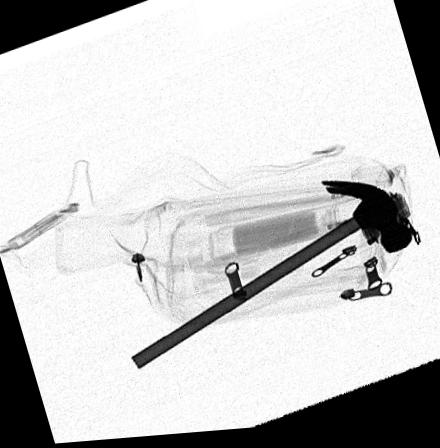Hammer: (131, 185, 413, 371)
